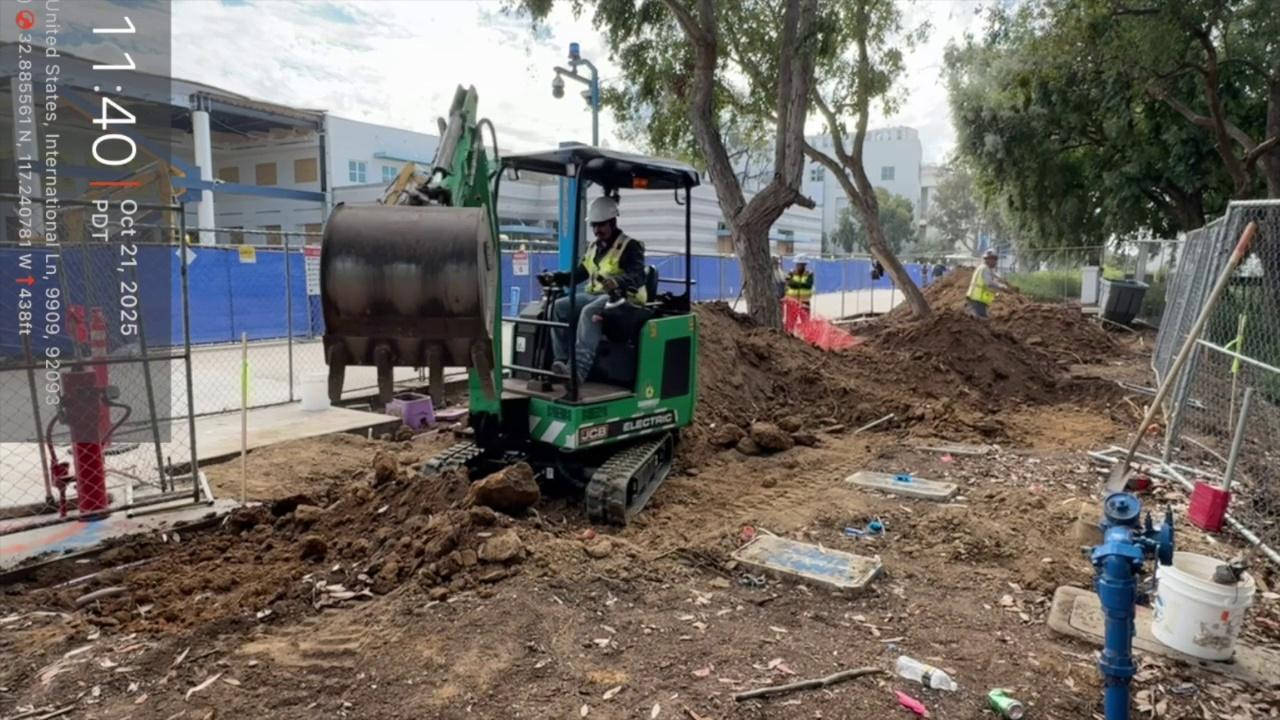Exacavator: (317, 81, 702, 527)
